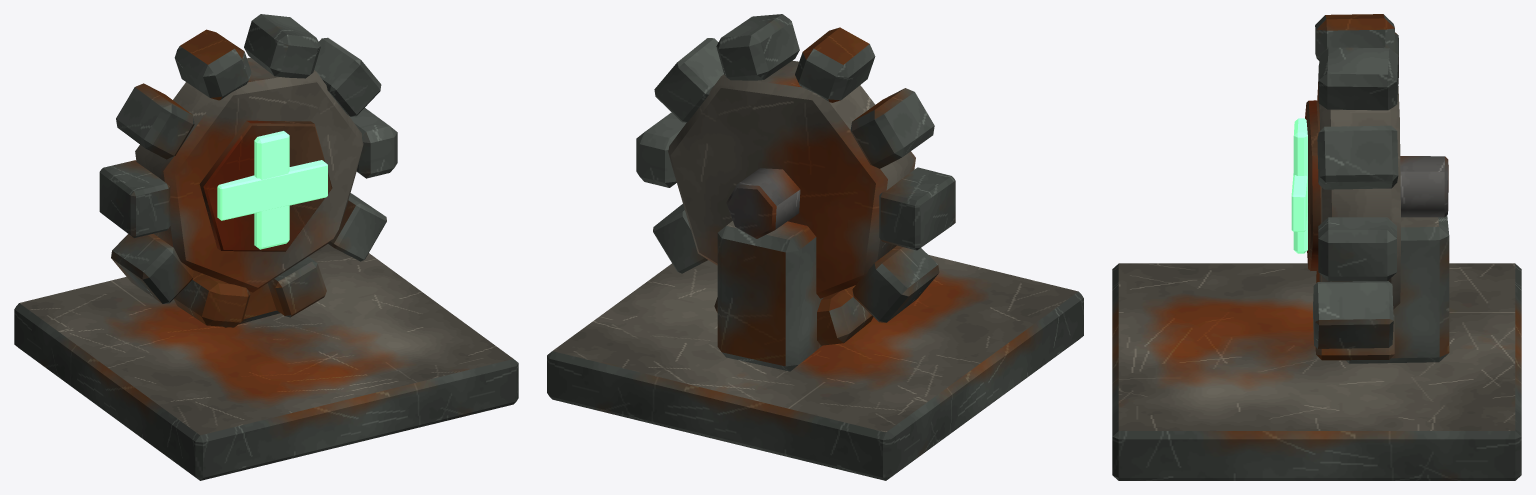
Rendered from R4X_RepairBooster_LOD1.glb.
3 views of the same model, side by side, from view 1: azimuth 30°, elevation 25°; view 2: azimuth 150°, elevation 25°; view 3: azimuth 270°, elevation 25° (orthographic). The views are drawn at different scales.
Parts seen in each view (by area): view 1: R4X_RepairBooster_LOD1; view 2: R4X_RepairBooster_LOD1; view 3: R4X_RepairBooster_LOD1.
Boxes of the visible parts, x1,y1,x2,y2 form: R4X_RepairBooster_LOD1: (14, 14, 518, 480); R4X_RepairBooster_LOD1: (547, 14, 1083, 480); R4X_RepairBooster_LOD1: (1112, 14, 1521, 480).
Size of the model in its own units: 0.52 by 0.5099 by 0.52.
5 materials, 4 textured.
